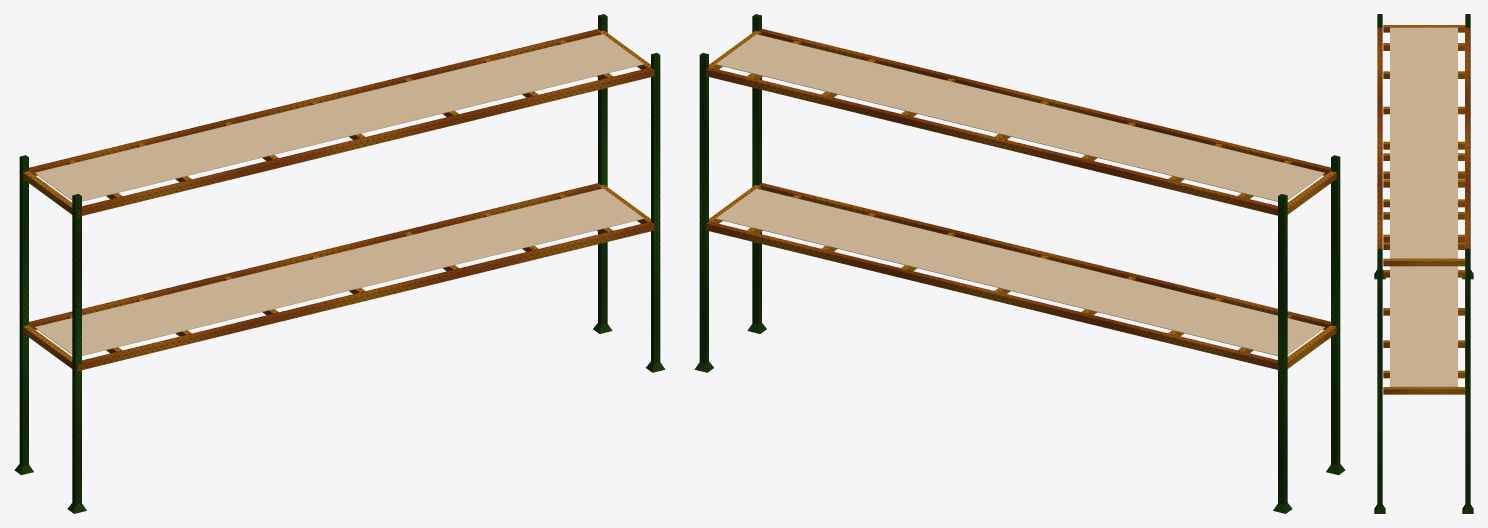
The model's file is Mesh_Static_Estructura_00.fbx.
3 renders of one model, left to right at view 1: azimuth 30°, elevation 25°; view 2: azimuth 150°, elevation 25°; view 3: azimuth 270°, elevation 25°, orthographic. The views are drawn at different scales.
Parts seen in each view (by area): view 1: Cube.048; view 2: Cube.048; view 3: Cube.048.
Boxes of the visible parts, x1,y1,x2,y2 form: Cube.048: (14, 14, 665, 513); Cube.048: (694, 14, 1345, 513); Cube.048: (1374, 14, 1473, 513).
Size of the model in its own units: 3048 by 1547 by 533.
